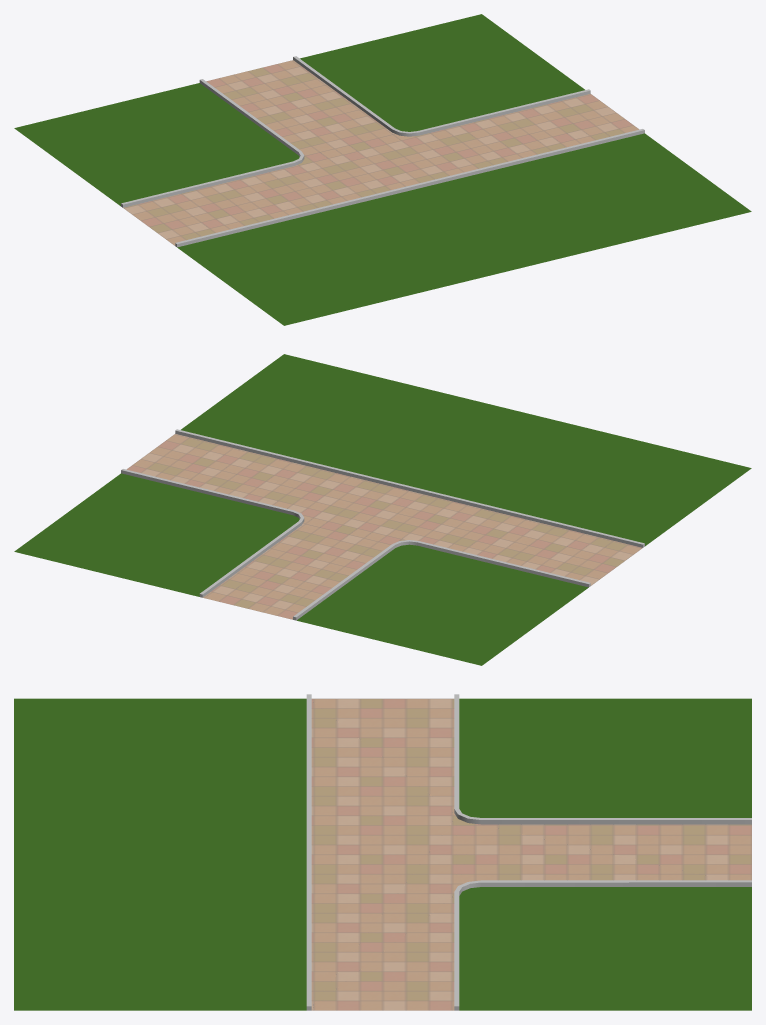
Rendered from Park_Sidewalk_09.fbx.
3 renders of one model, top to bottom at view 1: azimuth 30°, elevation 25°; view 2: azimuth 150°, elevation 25°; view 3: azimuth 270°, elevation 25°, orthographic. The views are drawn at different scales.
Parts seen in each view (by area): view 1: Park_Sidewalk_09; view 2: Park_Sidewalk_09; view 3: Park_Sidewalk_09.
Part boxes in pixels (bbox=[...]): Park_Sidewalk_09: bbox=[14, 14, 751, 325]; Park_Sidewalk_09: bbox=[14, 354, 751, 665]; Park_Sidewalk_09: bbox=[14, 694, 751, 1010].
Size of the model in its own units: 3000 by 3000 by 20.
